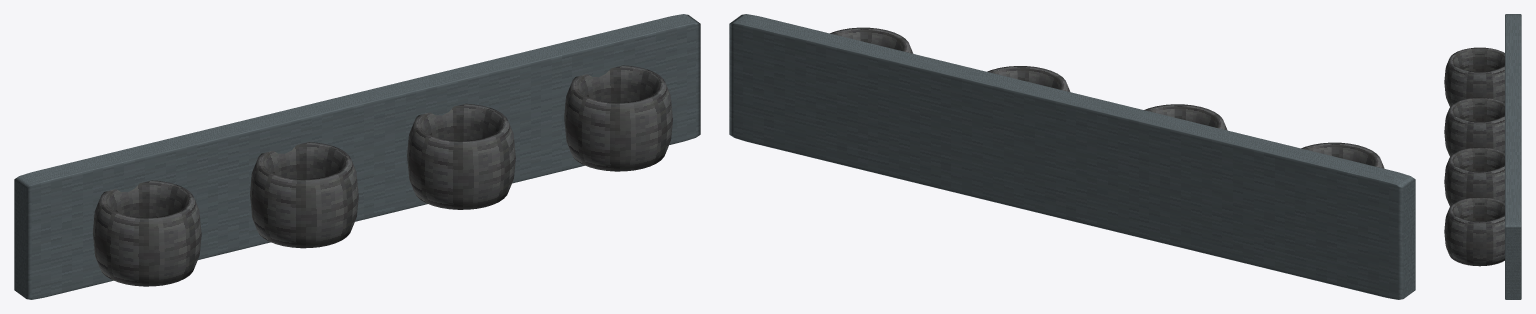
Rendered from rack-clip.glb.
3 views of the same model, side by side, from view 1: azimuth 30°, elevation 25°; view 2: azimuth 150°, elevation 25°; view 3: azimuth 270°, elevation 25° (orthographic). The views are drawn at different scales.
Parts seen in each view (by area): view 1: back, holder (×4); view 2: back, holder (×4); view 3: holder (×4), back.
Boxes of the visible parts, box(x1,y1,x2,y2) form: back: box(14, 14, 700, 299); holder (×4): box(93, 65, 672, 286); back: box(729, 14, 1415, 299); holder (×4): box(830, 27, 1384, 168); holder (×4): box(1444, 47, 1504, 266); back: box(1505, 14, 1521, 299).
Size of the model in its own units: 0.49 by 0.081 by 0.0749.
Materials: 2 (2 with a texture image).
